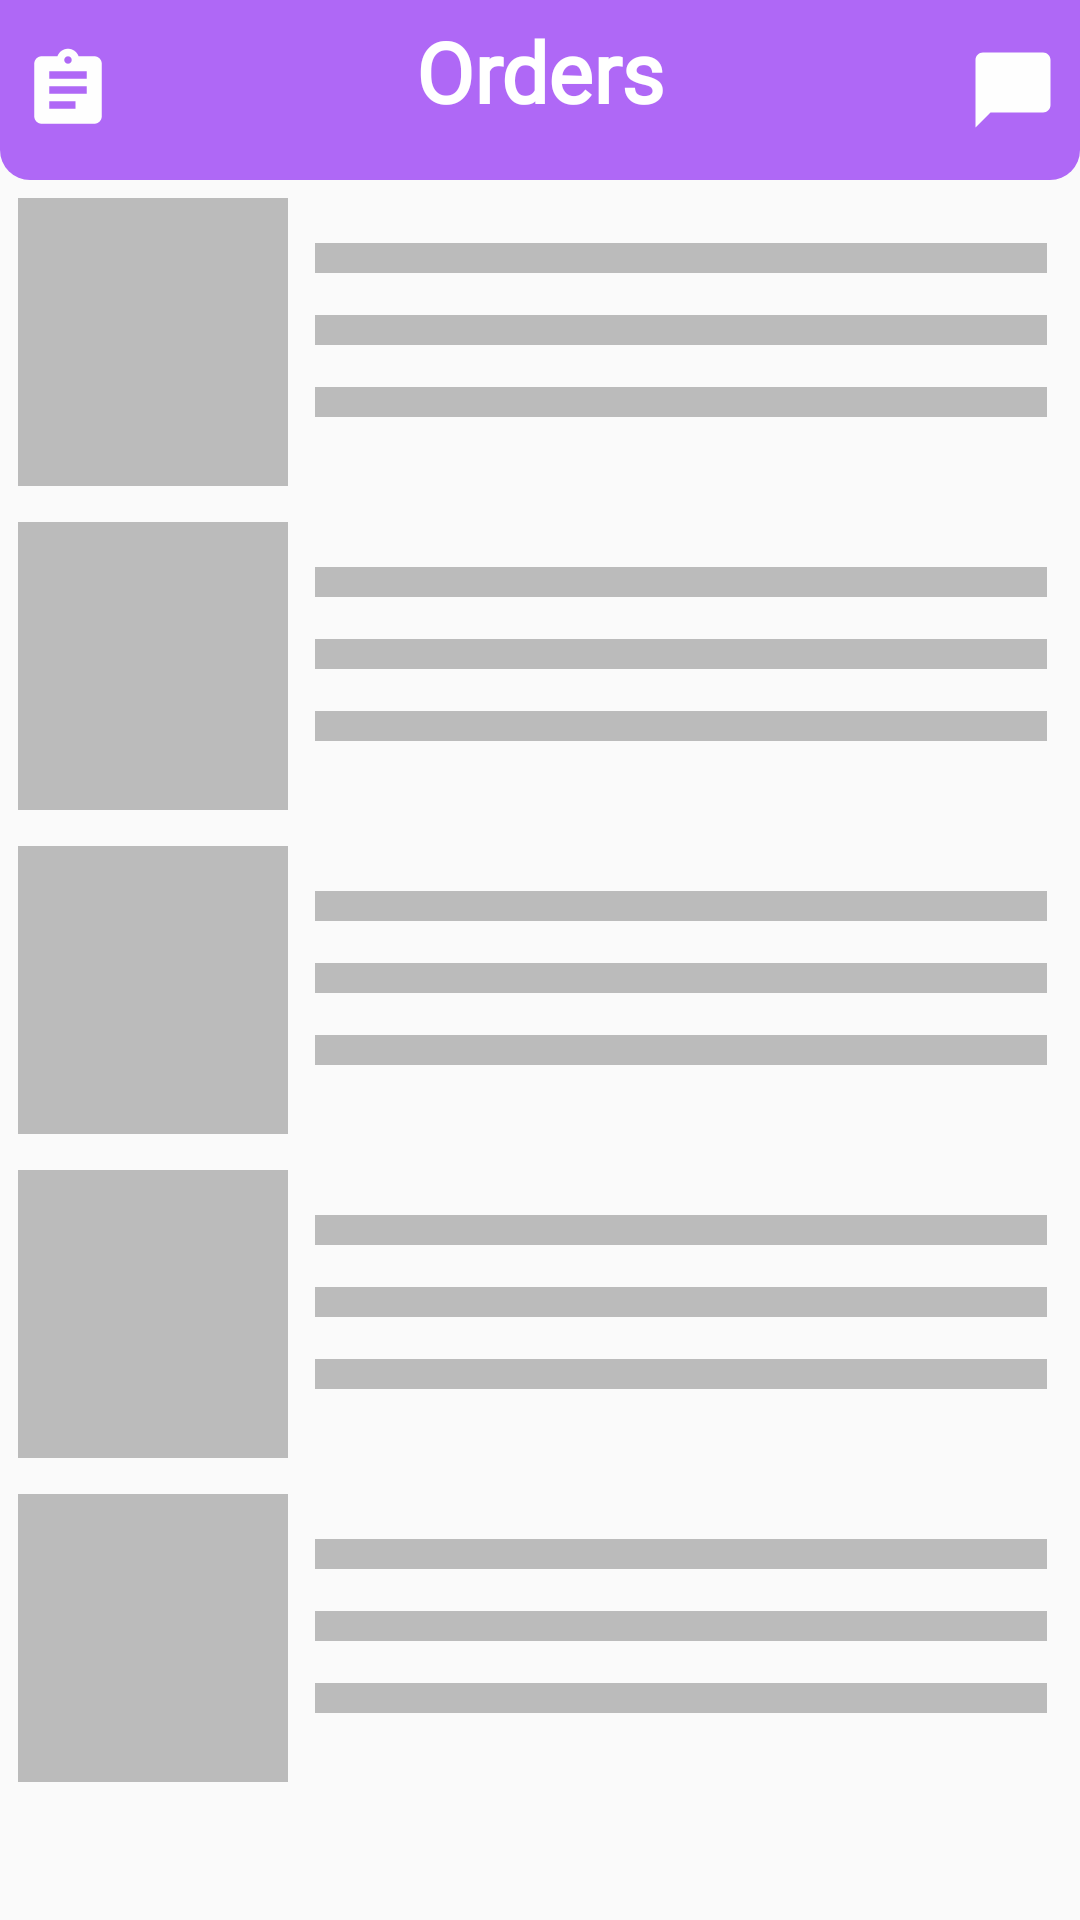

Where icons sit on this 1080px x 1920px app screen, as (x1, y1, x2, y2):
assignment: (34, 48, 102, 124)
chat bubble: (975, 52, 1051, 127)
